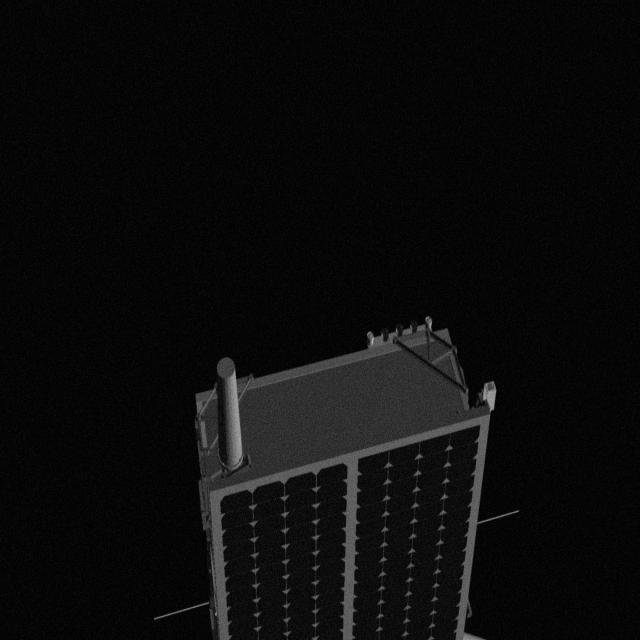satellite: (148, 318, 526, 640)
